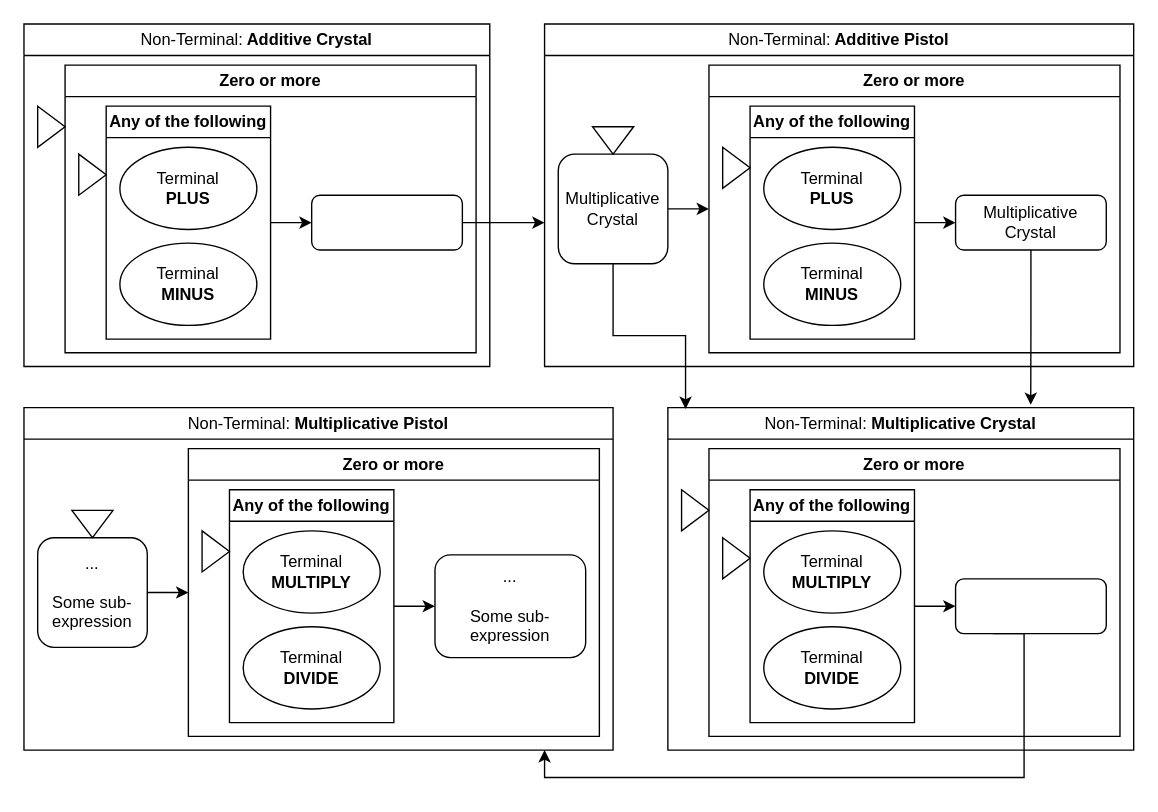
The diagram is 1158 pixels wide and 812 high, and some of its shapes have lost their labels. Here are the shapes that lost their labels. From the top down, the centre of each, then its label:
At point 386,222: "Additive Pistol".
At point 1030,605: "Multiplicative Pistol".
